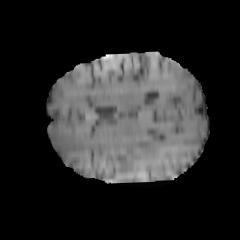glioma: (52, 128, 168, 182)
